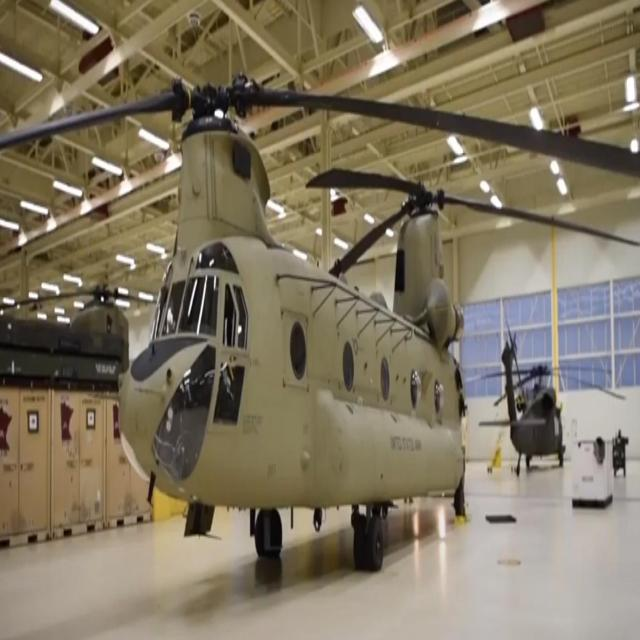Helicopter: (109, 73, 470, 583), (484, 328, 568, 481)
